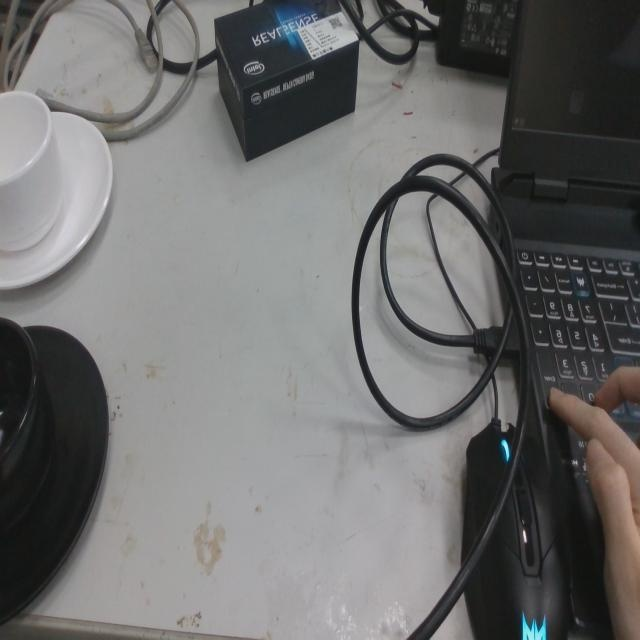black: (0, 313, 112, 634)
white: (0, 86, 116, 299)
